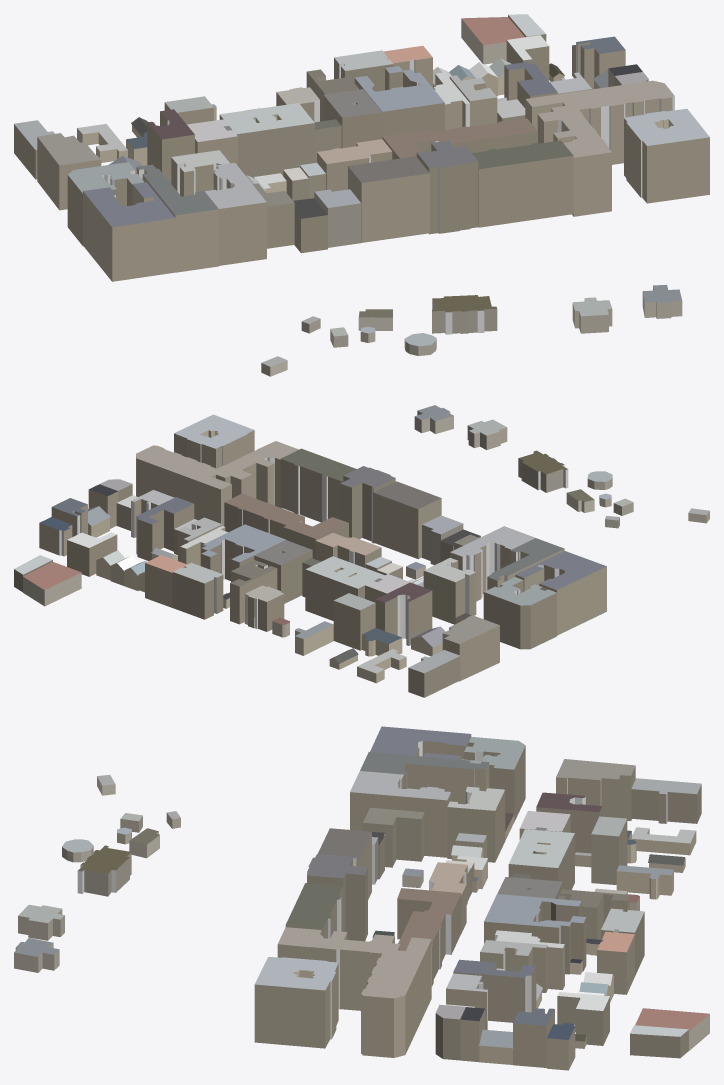
The picture shows the model from 3 angles, top to bottom: view 1: azimuth 30°, elevation 25°; view 2: azimuth 150°, elevation 25°; view 3: azimuth 270°, elevation 25°; orthographic projection. The views are drawn at different scales.
Parts seen in each view (by area): view 1: tuile; view 2: tuile; view 3: tuile.
Boxes of the visible parts, bbox=[...] form: tuile: bbox=[14, 14, 709, 376]; tuile: bbox=[14, 405, 709, 697]; tuile: bbox=[14, 726, 709, 1070].
Bounding box in the file's own units: 268 × 31.6 × 272.
